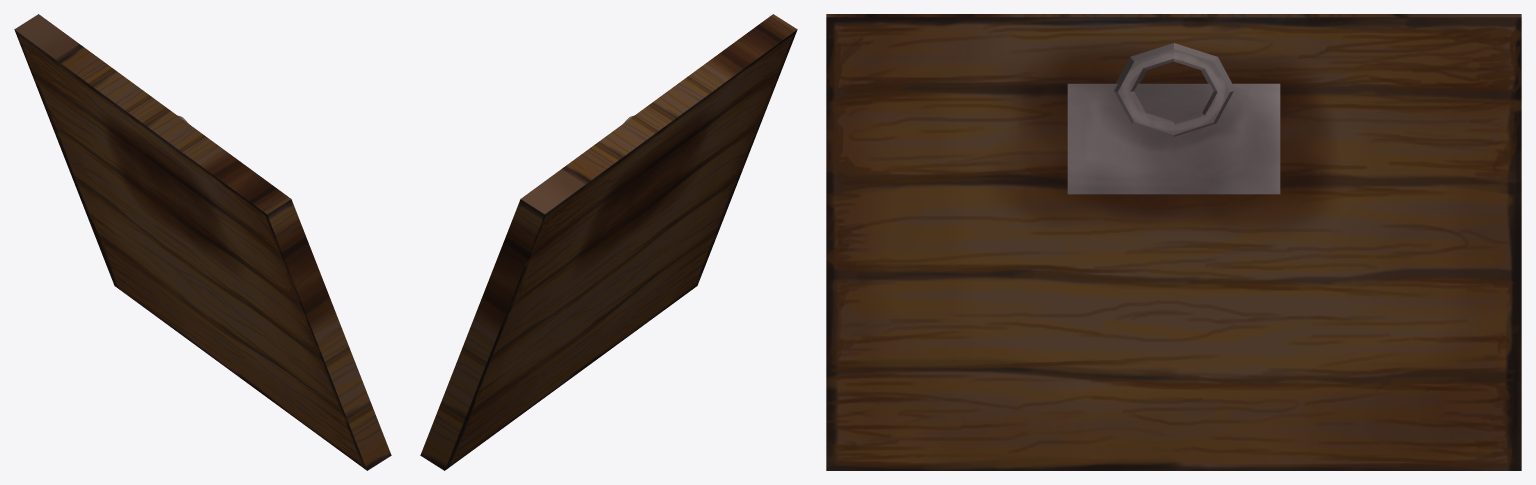
Rendered from escotilha.fbx.
3 renders of one model, left to right at view 1: azimuth 30°, elevation 25°; view 2: azimuth 150°, elevation 25°; view 3: azimuth 270°, elevation 25°, orthographic. The views are drawn at different scales.
Parts seen in each view (by area): view 1: escotilha; view 2: escotilha; view 3: escotilha.
Part boxes in pixels (left/top/right/bottom): escotilha: left=14, top=14, right=391, bottom=470; escotilha: left=420, top=14, right=797, bottom=470; escotilha: left=826, top=14, right=1521, bottom=470.
Bounding box in the file's own units: 38.44 × 85.68 × 135.
1 material, 1 textured.
